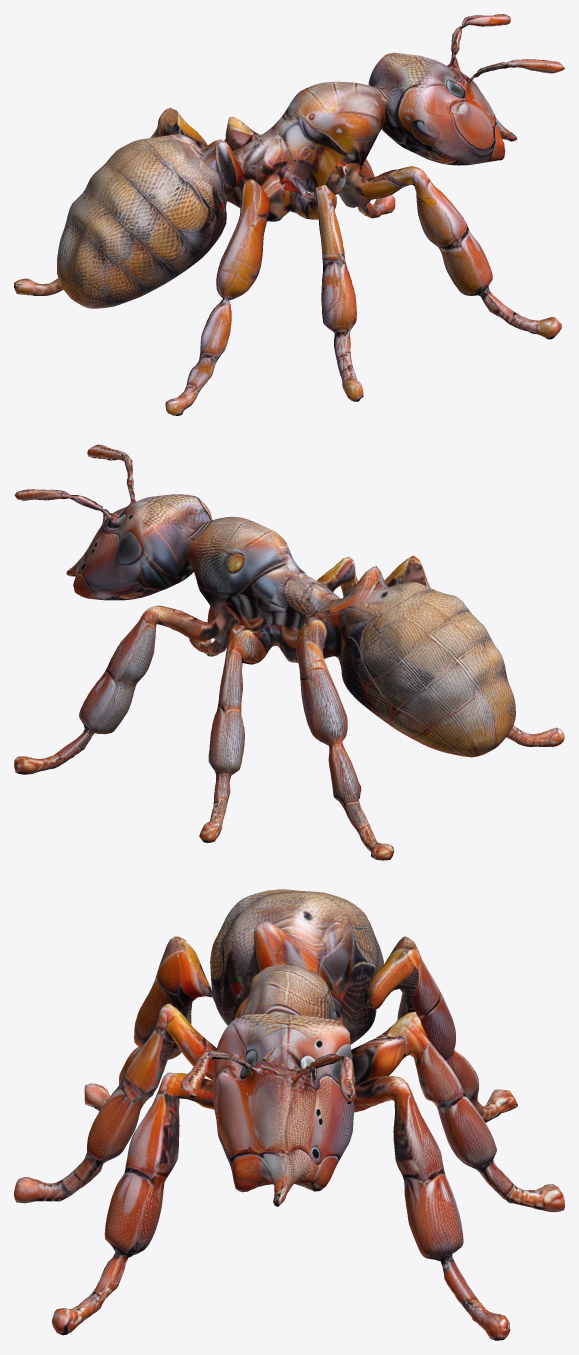
File: ant.glb
3 views of the same model, one above another, from view 1: azimuth 30°, elevation 25°; view 2: azimuth 150°, elevation 25°; view 3: azimuth 270°, elevation 25° (orthographic). The views are drawn at different scales.
Size of the model in its own units: 1.2 by 0.5752 by 0.9668.
1 material, 1 textured.
